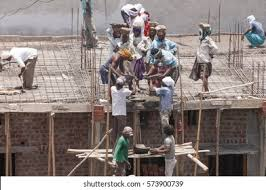arm: (111, 137, 123, 164), (150, 140, 170, 155)
glove: (197, 22, 212, 39), (123, 159, 132, 171)
helmet: (121, 124, 135, 137)
human: (187, 21, 219, 84), (109, 123, 137, 173), (240, 13, 265, 47)
noglove: (148, 146, 157, 155)
nohelmet: (160, 121, 177, 134), (161, 75, 175, 86), (116, 75, 128, 87), (132, 22, 142, 36), (155, 27, 167, 38), (151, 48, 163, 58), (148, 27, 156, 37)
novest: (109, 88, 129, 114), (7, 46, 37, 63), (155, 88, 176, 109), (113, 136, 130, 160), (196, 42, 211, 61), (164, 139, 179, 158)
